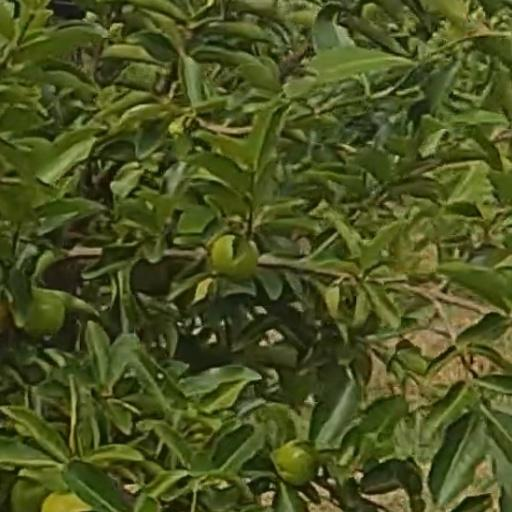acerola_verde: (272, 437, 317, 487), (212, 236, 254, 275), (26, 297, 66, 335)
